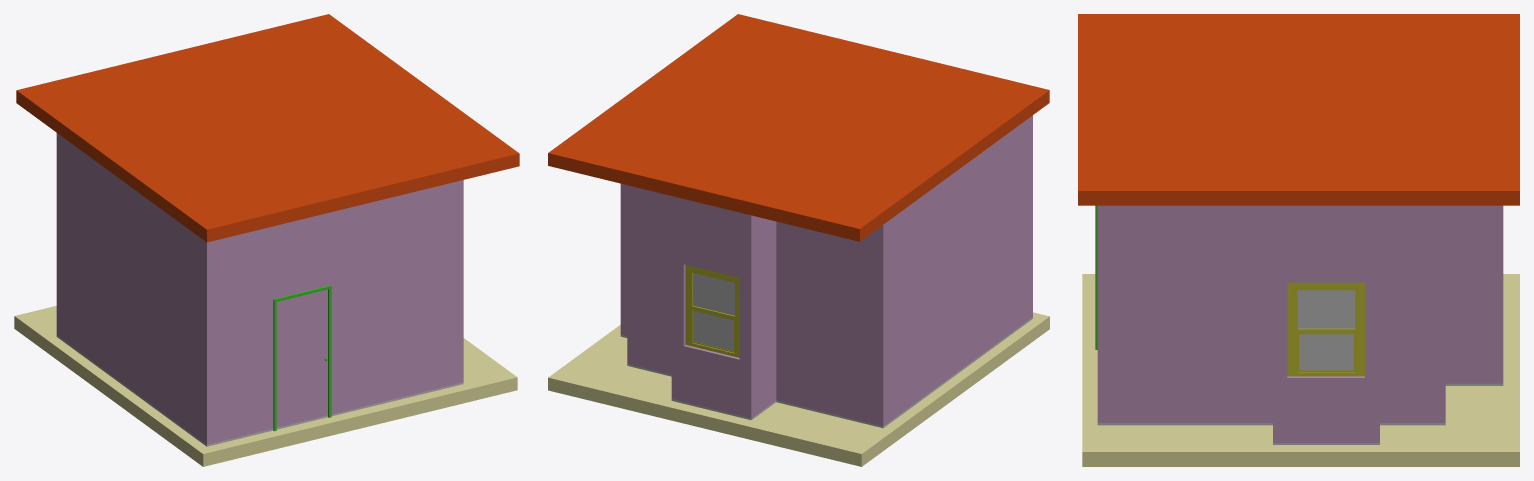
File: FloorPlan319.fbx
3 views of the same model, side by side, from view 1: azimuth 30°, elevation 25°; view 2: azimuth 150°, elevation 25°; view 3: azimuth 270°, elevation 25° (orthographic). The views are drawn at different scales.
Visible parts, largest first — view 1: StandardWallSize.016, Ceiling.015, Floor.015, StandardDoorFrame1.014; view 2: StandardWallSize.016, Ceiling.015, Floor.015, StandardWindow1.003, WindowTreatment1.002; view 3: Ceiling.015, StandardWallSize.016, Floor.015, StandardWindow1 (2).001, WindowTreatment1 (2).001.
Part boxes in pixels (bbox=[...]): StandardWallSize.016: bbox=[56, 133, 463, 446]; Ceiling.015: bbox=[16, 14, 519, 242]; Floor.015: bbox=[14, 306, 517, 466]; StandardDoorFrame1.014: bbox=[273, 285, 331, 431]; StandardWallSize.016: bbox=[620, 115, 1032, 428]; Ceiling.015: bbox=[548, 14, 1049, 241]; Floor.015: bbox=[548, 312, 1049, 466]; StandardWindow1.003: bbox=[689, 268, 737, 355]; WindowTreatment1.002: bbox=[685, 265, 739, 355]; Ceiling.015: bbox=[1078, 14, 1519, 205]; StandardWallSize.016: bbox=[1097, 205, 1503, 444]; Floor.015: bbox=[1082, 274, 1519, 466]; StandardWindow1 (2).001: bbox=[1293, 286, 1359, 373]; WindowTreatment1 (2).001: bbox=[1287, 282, 1364, 376].
Bounding box in the file's own units: 511 × 370 × 536.
